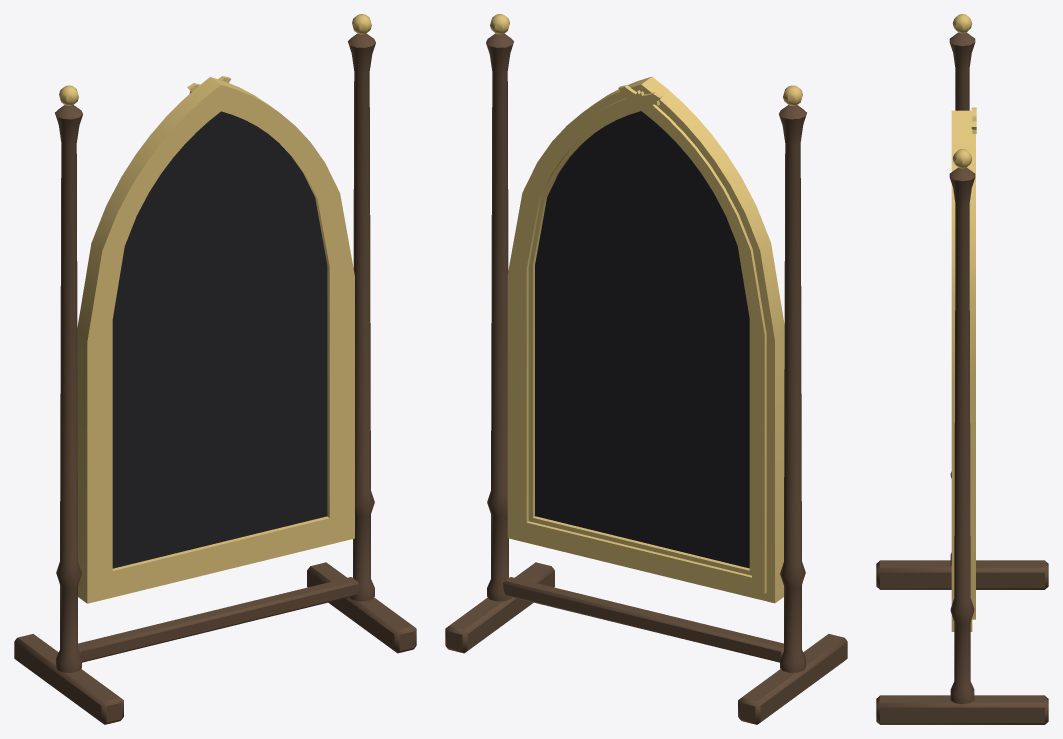
Rendered from gu_specchio.fbx.
3 views of the same model, side by side, from view 1: azimuth 30°, elevation 25°; view 2: azimuth 150°, elevation 25°; view 3: azimuth 270°, elevation 25° (orthographic). The views are drawn at different scales.
Visible parts, largest first — view 1: gu_specchio_lacca, gu_specchio_oro, gu_specchio_legno, gu_specchio_ottone; view 2: gu_specchio_lacca, gu_specchio_oro, gu_specchio_legno, gu_specchio_ottone; view 3: gu_specchio_legno, gu_specchio_oro, gu_specchio_ottone.
Boxes of the visible parts, bbox=[...] form: gu_specchio_lacca: bbox=[112, 111, 327, 568]; gu_specchio_oro: bbox=[77, 76, 354, 603]; gu_specchio_legno: bbox=[14, 33, 416, 724]; gu_specchio_ottone: bbox=[59, 14, 371, 105]; gu_specchio_lacca: bbox=[535, 111, 749, 568]; gu_specchio_oro: bbox=[507, 76, 784, 603]; gu_specchio_legno: bbox=[445, 33, 847, 724]; gu_specchio_ottone: bbox=[490, 14, 802, 105]; gu_specchio_legno: bbox=[876, 32, 1048, 724]; gu_specchio_oro: bbox=[951, 107, 976, 631]; gu_specchio_ottone: bbox=[952, 14, 972, 168].
Bounding box in the file's own units: 1.13 × 2.05 × 0.56.
